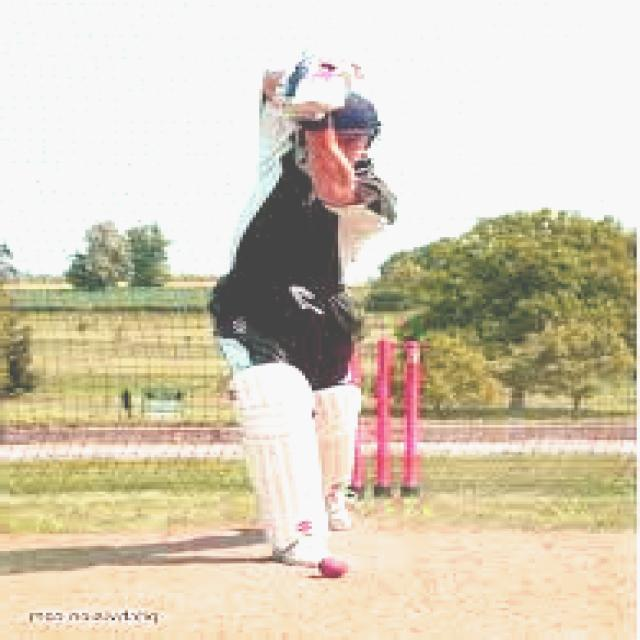bat: (280, 58, 363, 121)
toe: (291, 100, 343, 115)
